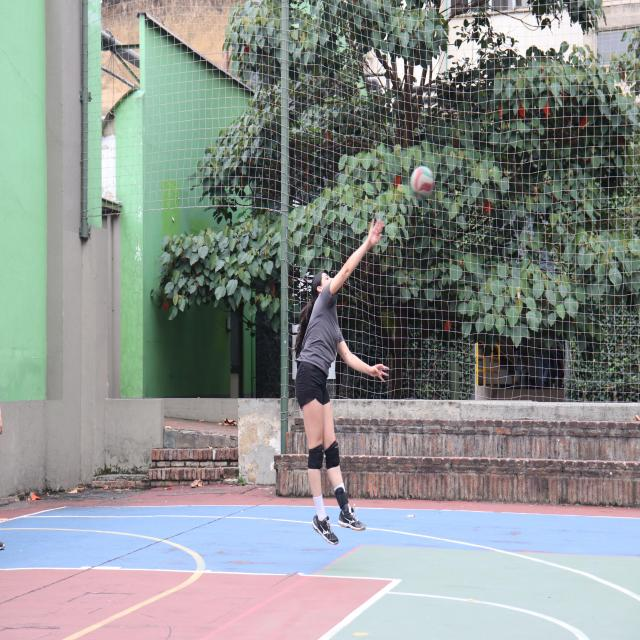volleyball: (411, 165, 434, 202)
